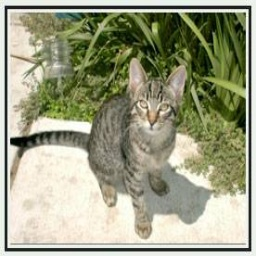cat: (10, 50, 205, 243)
